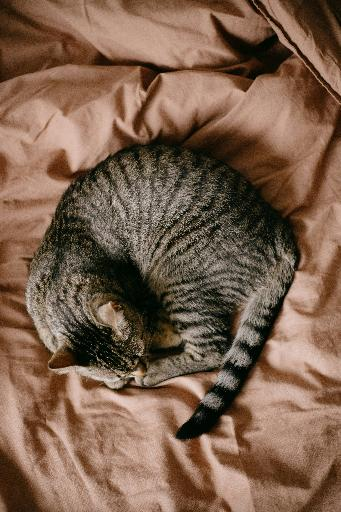cat_sleeping: (26, 145, 299, 440)
